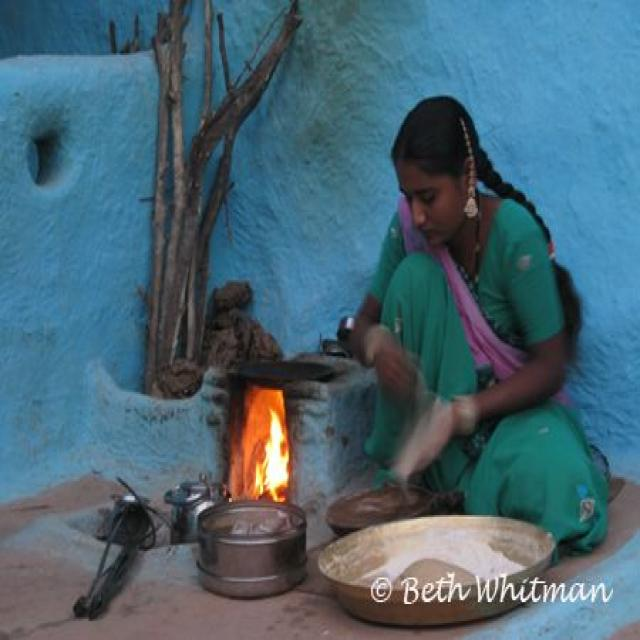fire: (254, 406, 289, 503)
